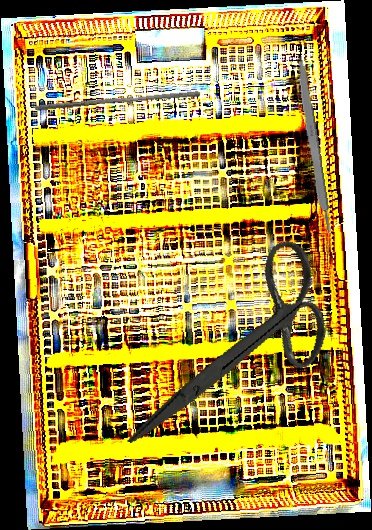Iris Scissors: (126, 213, 349, 487)
Pusher: (33, 84, 202, 118)
Scalpel Handle: (292, 55, 334, 235)
